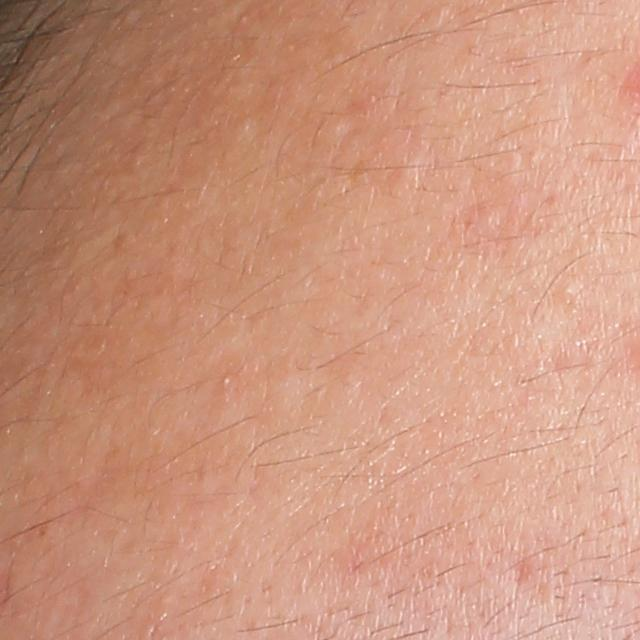comedo: (558, 285, 577, 305)
